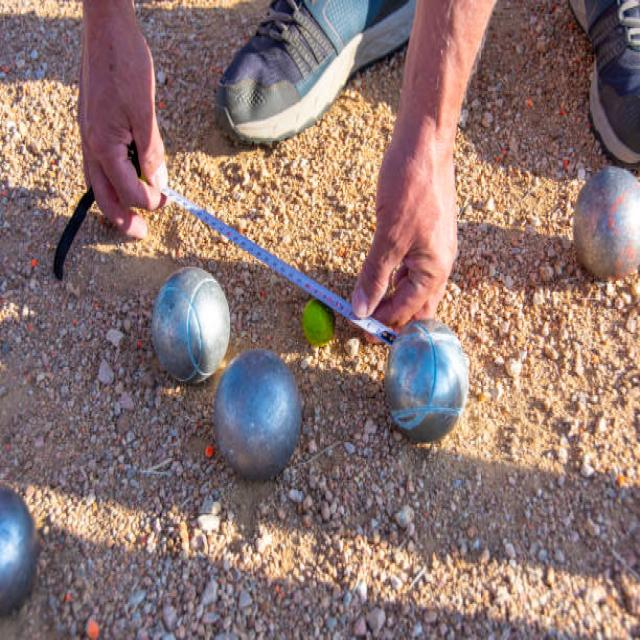hatball: (297, 294, 339, 352)
petanque: (207, 345, 303, 490), (385, 312, 473, 453), (148, 263, 238, 392), (570, 163, 639, 291), (0, 485, 39, 621)
